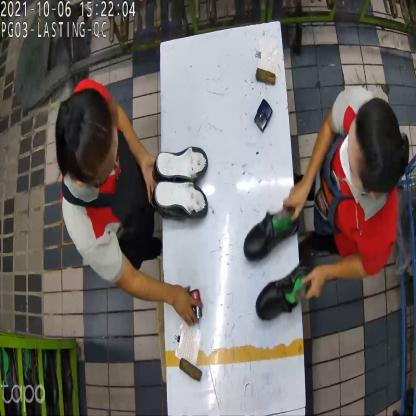shoes: (242, 211, 312, 327), (154, 144, 210, 219)
stamp: (182, 288, 204, 324), (254, 98, 274, 133)
